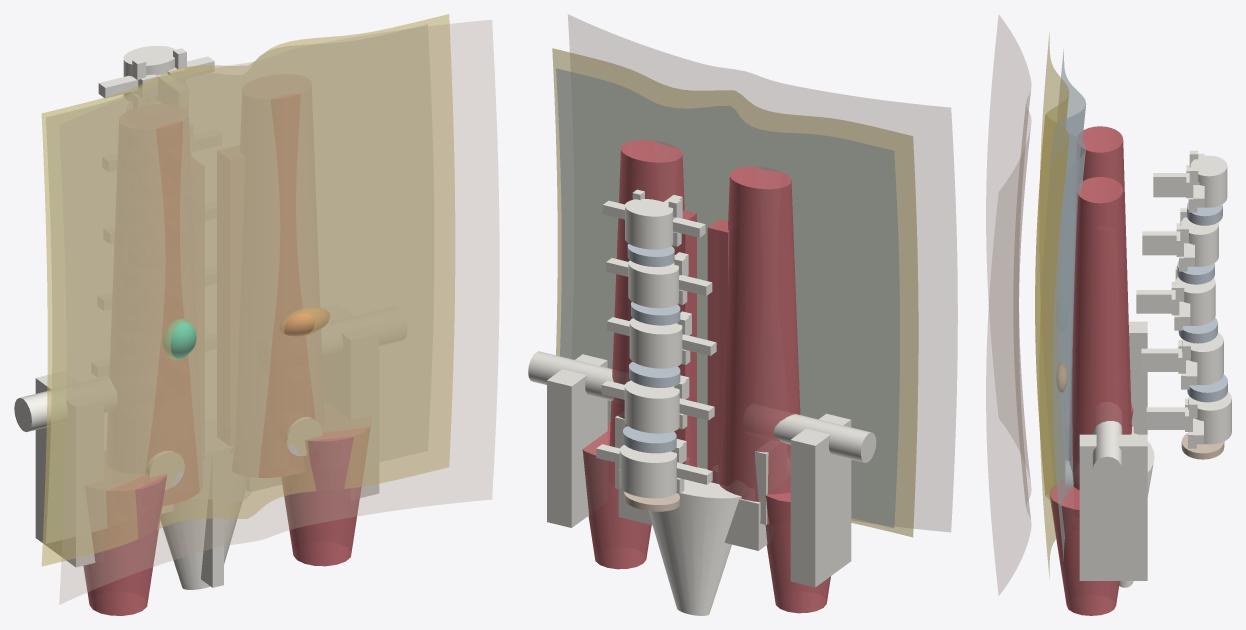
File: lower-back-anatomy-lipomas.glb
The picture shows the model from 3 angles, left to right: view 1: azimuth 30°, elevation 25°; view 2: azimuth 150°, elevation 25°; view 3: azimuth 270°, elevation 25°; orthographic projection. The views are drawn at different scales.
Visible parts, largest first — view 1: Skin_Integument, Subcutaneous_Adipose_Fat, Thoracolumbar_Fascia, Erector_Spinae_Musculature, Pelvis_IliacCrests_PSIS, Sacrum_S1_S5, Vertebra_L1, Lipoma_Left_Subcutaneous_L5S1, Lipoma_Right_Subcutaneous_L5S1; view 2: Subcutaneous_Adipose_Fat, Thoracolumbar_Fascia, Erector_Spinae_Musculature, Skin_Integument, Pelvis_IliacCrests_PSIS, Sacrum_S1_S5, Vertebra_L5, Vertebra_L4, Vertebra_L1, Vertebra_L3, Vertebra_L2, Disc_L4_L5 (+4 smaller); view 3: Erector_Spinae_Musculature, Skin_Integument, Pelvis_IliacCrests_PSIS, Thoracolumbar_Fascia, Subcutaneous_Adipose_Fat, Vertebra_L1, Vertebra_L5, Vertebra_L4, Vertebra_L3, Vertebra_L2, Disc_L4_L5, Disc_L3_L4 (+4 smaller).
Boxes of the visible parts, left/top/right/bottom form: Skin_Integument: left=59, top=20, right=499, bottom=604; Subcutaneous_Adipose_Fat: left=41, top=14, right=454, bottom=566; Thoracolumbar_Fascia: left=46, top=24, right=433, bottom=543; Erector_Spinae_Musculature: left=83, top=94, right=370, bottom=615; Pelvis_IliacCrests_PSIS: left=14, top=372, right=379, bottom=567; Sacrum_S1_S5: left=160, top=477, right=281, bottom=589; Vertebra_L1: left=98, top=46, right=214, bottom=98; Lipoma_Left_Subcutaneous_L5S1: left=280, top=307, right=329, bottom=336; Lipoma_Right_Subcutaneous_L5S1: left=163, top=319, right=196, bottom=359; Subcutaneous_Adipose_Fat: left=552, top=48, right=918, bottom=537; Thoracolumbar_Fascia: left=556, top=68, right=899, bottom=528; Erector_Spinae_Musculature: left=582, top=140, right=830, bottom=613; Skin_Integument: left=568, top=14, right=957, bottom=531; Pelvis_IliacCrests_PSIS: left=528, top=351, right=876, bottom=587; Sacrum_S1_S5: left=618, top=467, right=767, bottom=615; Vertebra_L5: left=596, top=439, right=712, bottom=498; Vertebra_L4: left=601, top=375, right=714, bottom=433; Vertebra_L1: left=602, top=189, right=705, bottom=249; Vertebra_L3: left=607, top=311, right=716, bottom=368; Vertebra_L2: left=606, top=252, right=712, bottom=308; Disc_L4_L5: left=623, top=426, right=676, bottom=453; Erector_Spinae_Musculature: left=1049, top=126, right=1133, bottom=615; Skin_Integument: left=986, top=15, right=1031, bottom=595; Pelvis_IliacCrests_PSIS: left=1065, top=321, right=1147, bottom=580; Thoracolumbar_Fascia: left=1044, top=49, right=1086, bottom=560; Subcutaneous_Adipose_Fat: left=1035, top=32, right=1069, bottom=578; Vertebra_L1: left=1153, top=150, right=1227, bottom=212; Vertebra_L5: left=1146, top=392, right=1231, bottom=448; Vertebra_L4: left=1141, top=332, right=1223, bottom=389; Vertebra_L3: left=1136, top=266, right=1215, bottom=330; Vertebra_L2: left=1142, top=208, right=1218, bottom=271; Disc_L4_L5: left=1187, top=374, right=1227, bottom=402; Disc_L3_L4: left=1178, top=317, right=1217, bottom=343.
Bounding box in the file's own units: 34 × 42.5 × 19.84.
